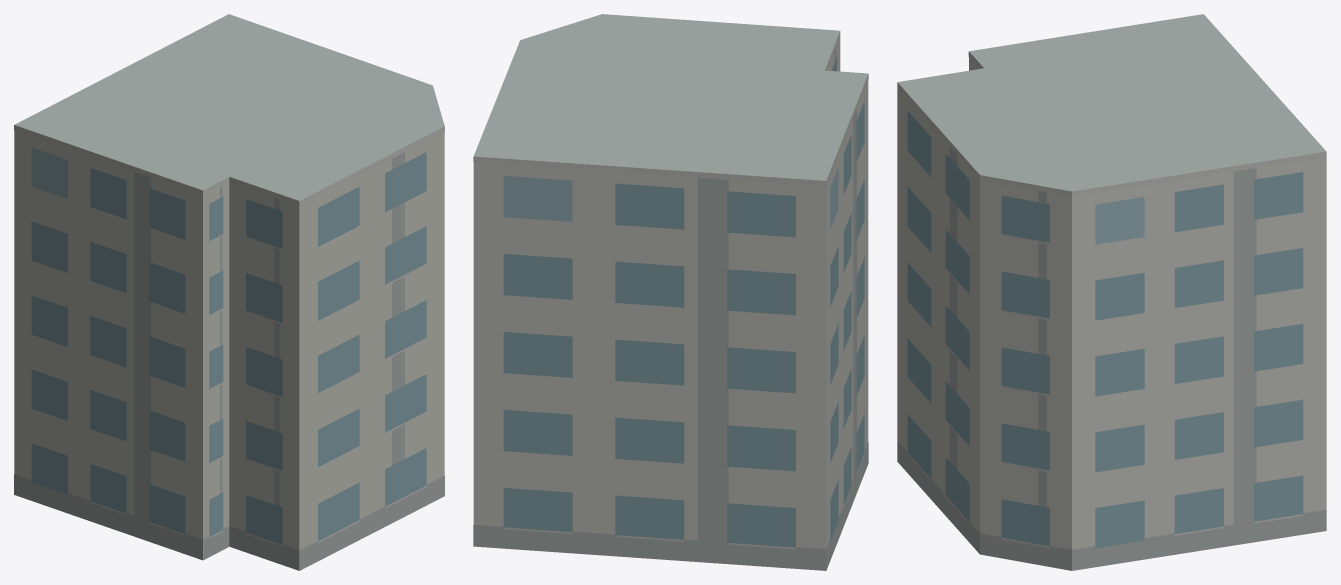
Rendered from survey-upis-33011712.glb.
3 views of the same model, side by side, from view 1: azimuth 30°, elevation 25°; view 2: azimuth 150°, elevation 25°; view 3: azimuth 270°, elevation 25° (orthographic). The views are drawn at different scales.
Parts seen in each view (by area): view 1: survey-upis-33011712.tmp; view 2: survey-upis-33011712.tmp; view 3: survey-upis-33011712.tmp.
Boxes of the visible parts, <box> form: survey-upis-33011712.tmp: <box>14,14,444,570</box>; survey-upis-33011712.tmp: <box>473,14,868,570</box>; survey-upis-33011712.tmp: <box>897,14,1326,570</box>.
Bounding box in the file's own units: 16.77 × 16.71 × 17.14.
